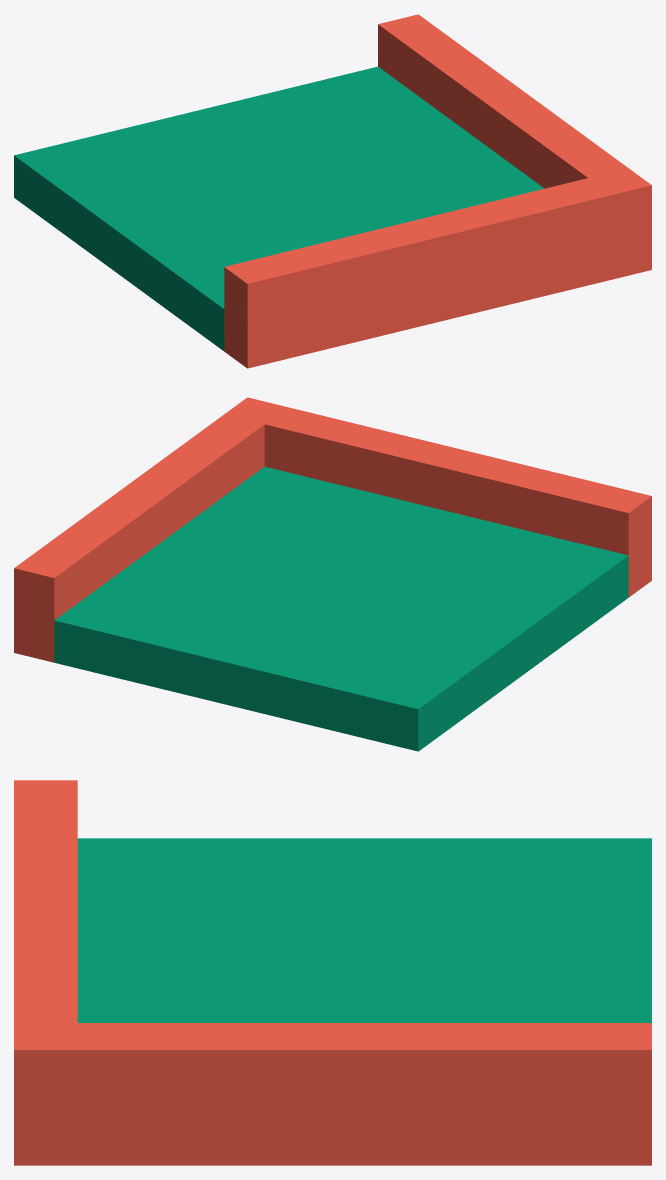
Rendered from straight.fbx.
3 views of the same model, one above another, from view 1: azimuth 30°, elevation 25°; view 2: azimuth 150°, elevation 25°; view 3: azimuth 270°, elevation 25° (orthographic). The views are drawn at different scales.
Visible parts, largest first — view 1: corner; view 2: corner; view 3: corner.
Boxes of the visible parts, bbox=[...] form: corner: bbox=[14, 14, 651, 368]; corner: bbox=[14, 397, 651, 751]; corner: bbox=[14, 780, 651, 1165].
Bounding box in the file's own units: 10 × 2 × 10.
